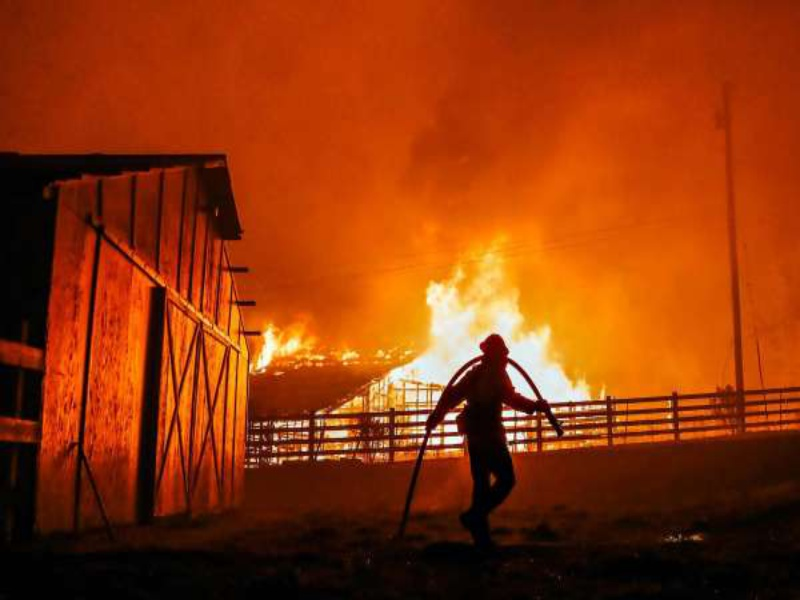fire: (384, 261, 474, 450), (514, 316, 594, 438), (244, 321, 318, 374), (325, 343, 362, 368)
